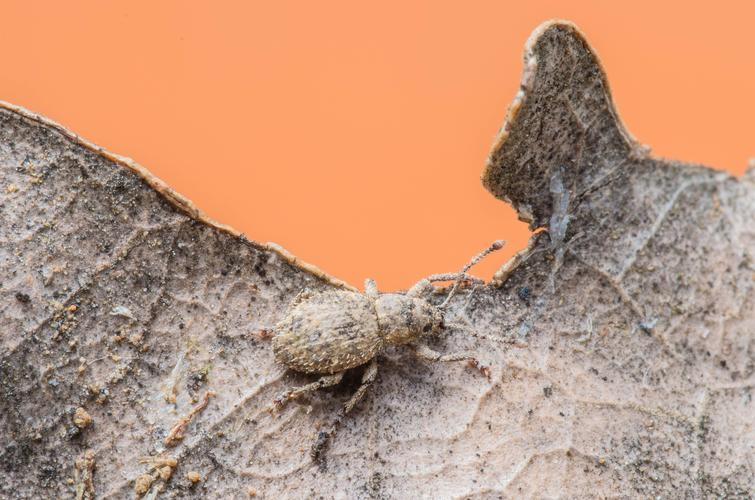Curculionidae: (251, 239, 529, 465)
